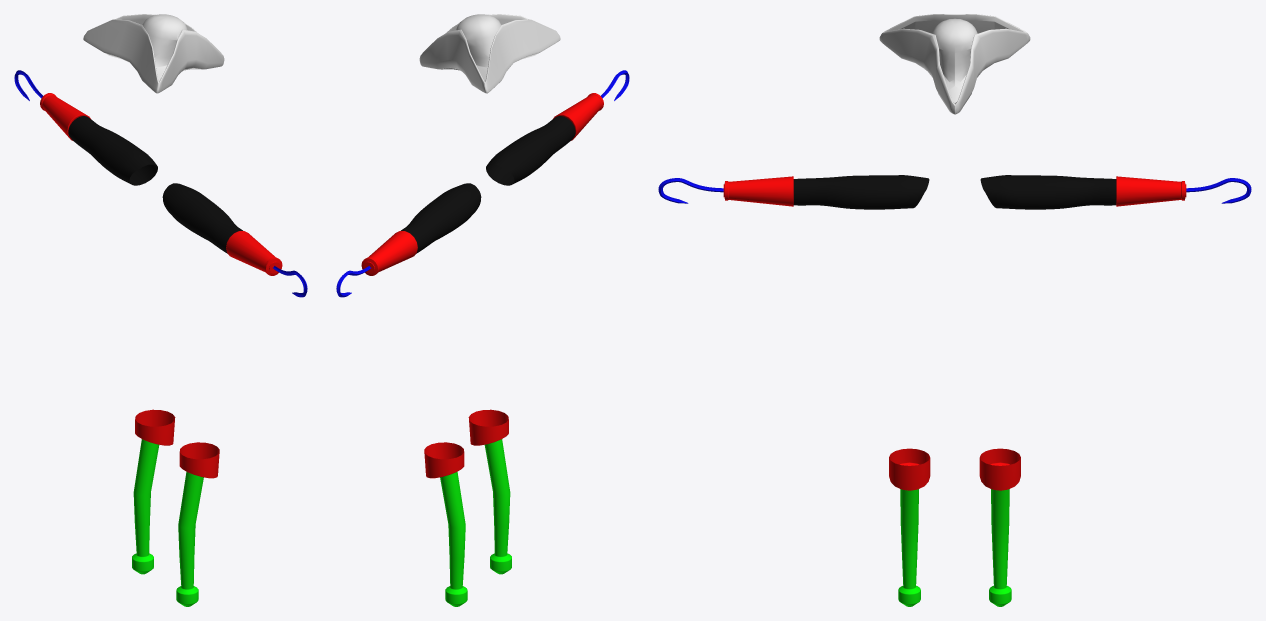
The model's file is SK_pirate_cosmetics_paintable.fbx.
The picture shows the model from 3 angles, left to right: view 1: azimuth 30°, elevation 25°; view 2: azimuth 150°, elevation 25°; view 3: azimuth 270°, elevation 25°; orthographic projection.
Visible parts, largest first — view 1: Lower_legs_pirate, Pirate_hat, Pirate_hook_arms, Pirate_hook_hook; view 2: Lower_legs_pirate, Pirate_hat, Pirate_hook_arms, Pirate_hook_hook; view 3: Pirate_hook_arms, Pirate_hat, Lower_legs_pirate, Pirate_hook_hook.
Part boxes in pixels (x1,y1,x2,y2): Lower_legs_pirate: (132,409,219,606); Pirate_hat: (83,14,224,93); Pirate_hook_arms: (68,116,242,253); Pirate_hook_hook: (14,70,307,297); Lower_legs_pirate: (424,409,511,606); Pirate_hat: (419,14,560,93); Pirate_hook_arms: (401,116,575,253); Pirate_hook_hook: (336,70,629,297); Pirate_hook_arms: (793,175,1116,209); Pirate_hat: (879,14,1030,114); Lower_legs_pirate: (889,448,1020,606); Pirate_hook_hook: (658,176,1251,206).
Bounding box in the file's own units: 28.4 × 137 × 149.
